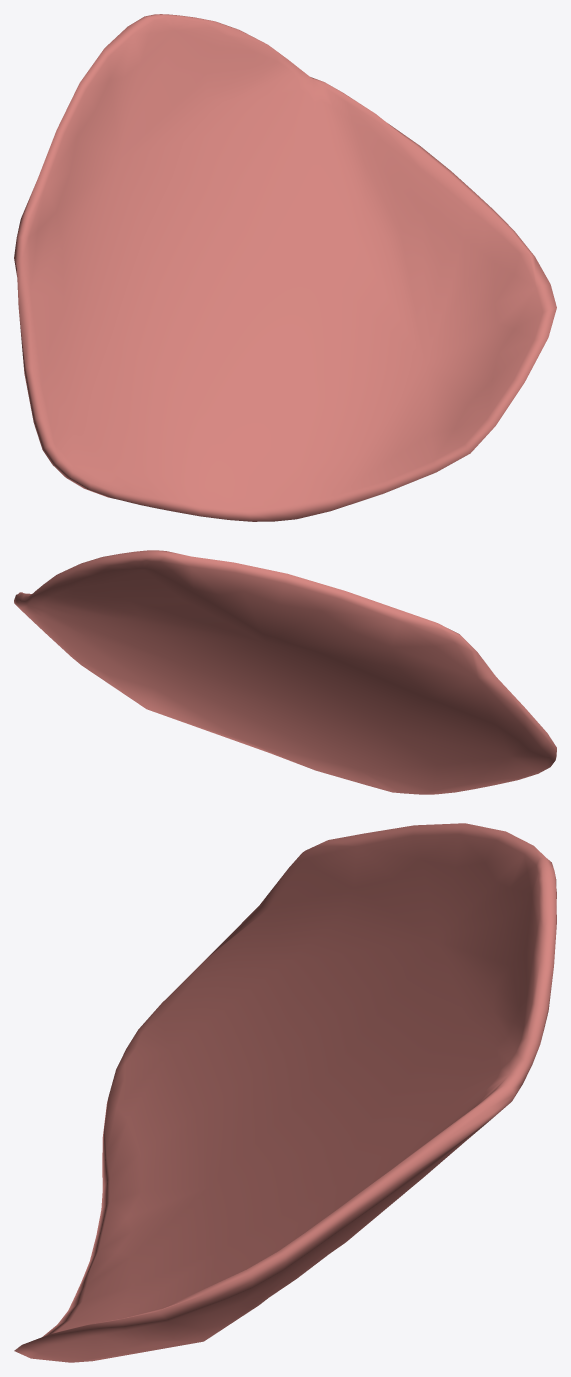
3 views of the same model, one above another, from view 1: azimuth 30°, elevation 25°; view 2: azimuth 150°, elevation 25°; view 3: azimuth 270°, elevation 25° (orthographic). The views are drawn at different scales.
Visible parts, largest first — view 1: ZA_197093bbc787e7a2; view 2: ZA_197093bbc787e7a2; view 3: ZA_197093bbc787e7a2.
Boxes of the visible parts, x1=… form: ZA_197093bbc787e7a2: x1=14, y1=14, x2=556, y2=521; ZA_197093bbc787e7a2: x1=14, y1=550, x2=556, y2=794; ZA_197093bbc787e7a2: x1=14, y1=823, x2=556, y2=1362.
Size of the model in its own units: 0.0192 by 0.0129 by 0.0134.
